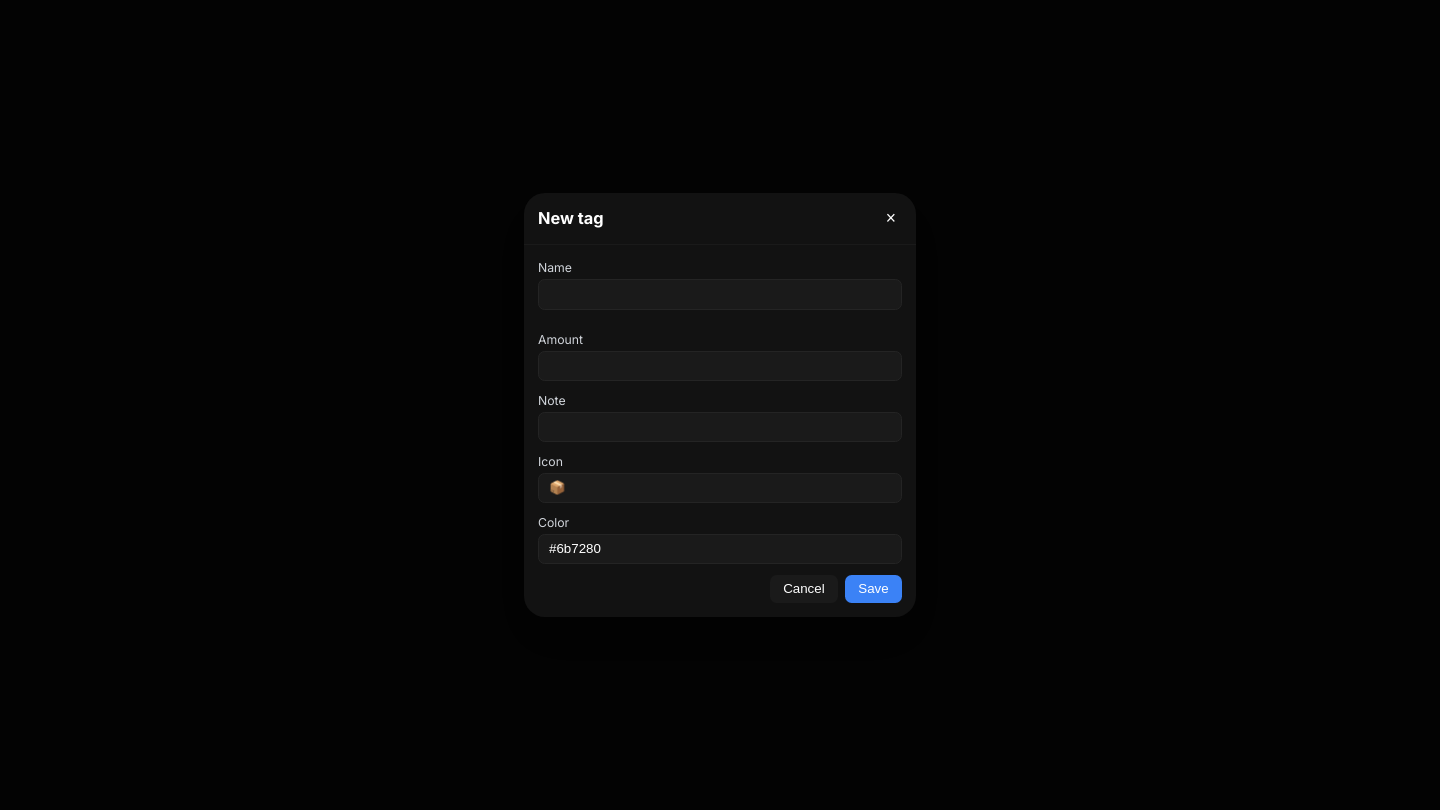
TagManageModal › create mode validates required fields
Click the button "Save" at (874, 589), box [845, 575, 902, 603]
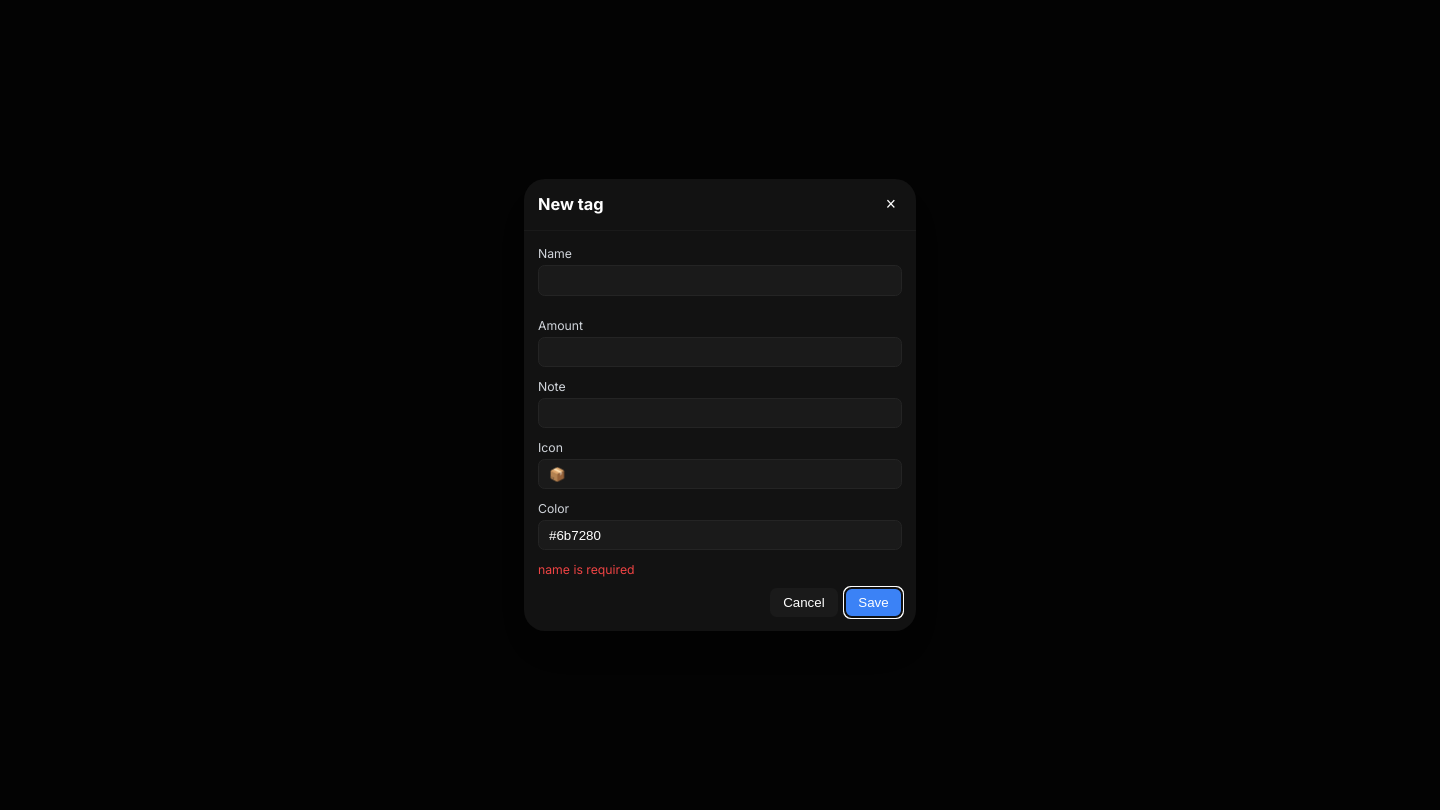
Expected: the text "name is required" is shown, [538, 562, 635, 577]
